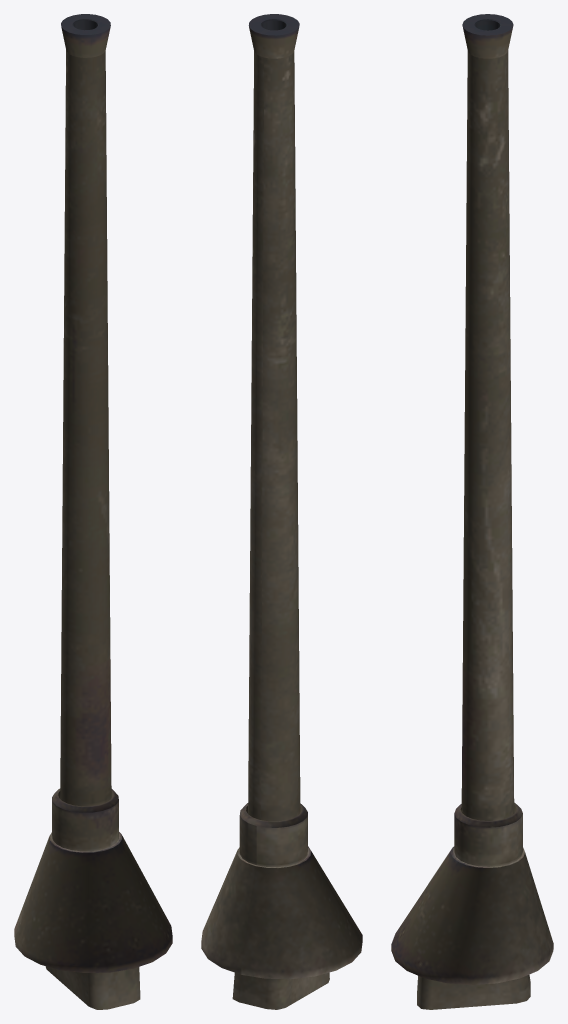
File: Gun_02.glb
3 renders of one model, left to right at view 1: azimuth 30°, elevation 25°; view 2: azimuth 150°, elevation 25°; view 3: azimuth 270°, elevation 25°, orthographic.
Visible parts, largest first — view 1: set_0_group_0; view 2: set_0_group_0; view 3: set_0_group_0.
Boxes of the visible parts, <box> form: set_0_group_0: <box>14,14,172,1009</box>; set_0_group_0: <box>201,14,362,1009</box>; set_0_group_0: <box>391,14,553,1009</box>.
Bounding box in the file's own units: 0.4925 × 3.26 × 0.4929.
Materials: 1 (1 with a texture image).
